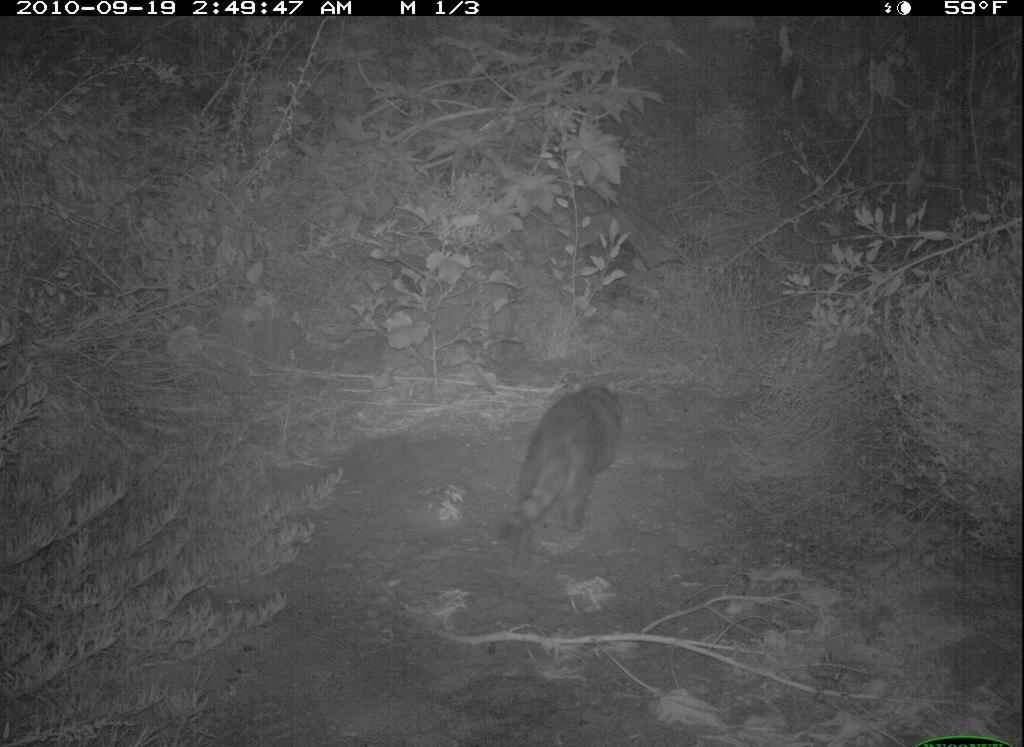raccoon: (504, 379, 630, 577)
